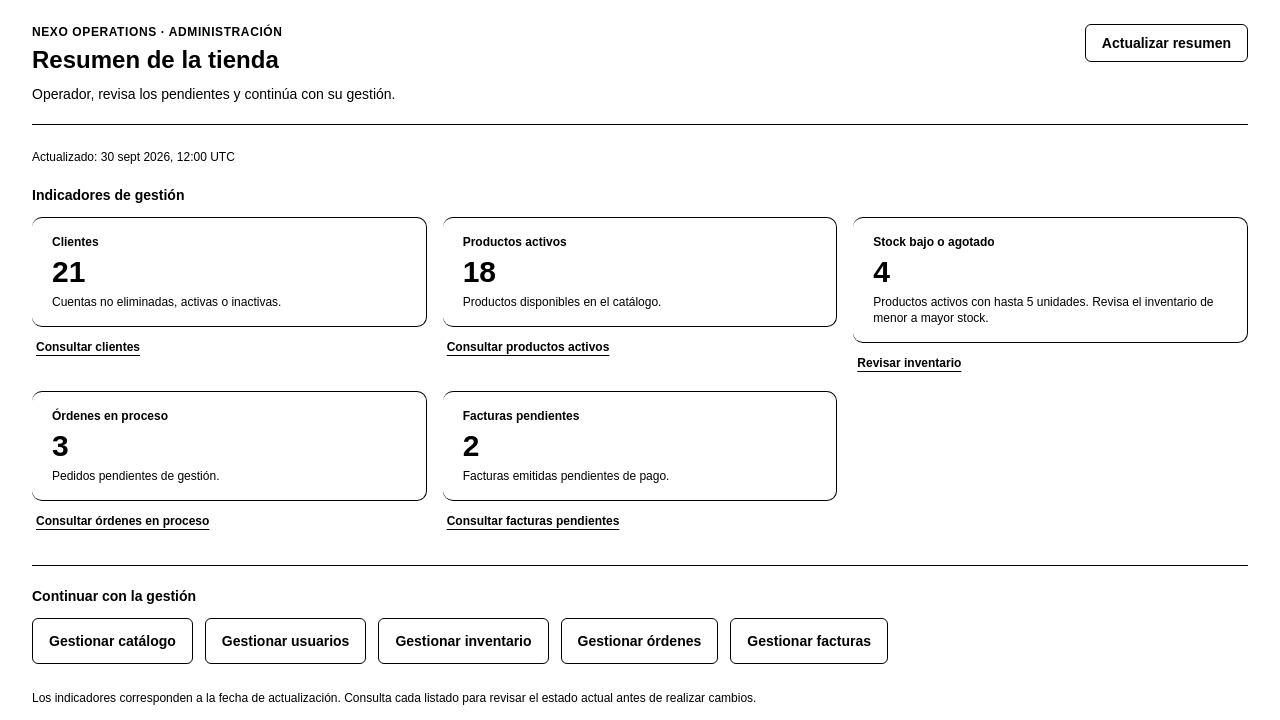
Test: authorized initial dashboard › removes previous metrics if a refreshed request loses authorization
Expected: the text "21" is shown, x1=52 y1=255 x2=85 y2=288
Click the button "Actualizar resumen" at (1166, 43), box x1=1085 y1=24 x2=1248 y2=62
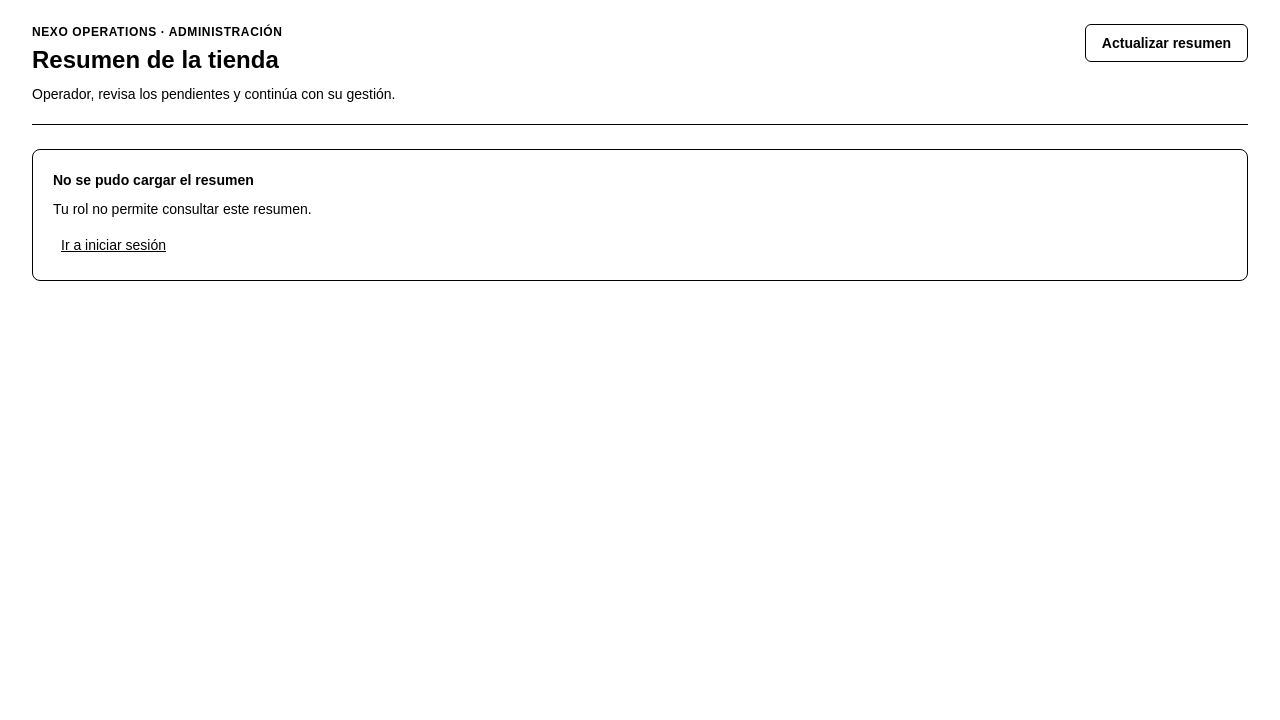
Expected: the message is shown, x1=32 y1=149 x2=1248 y2=281
Expected: the text "21" is gone
